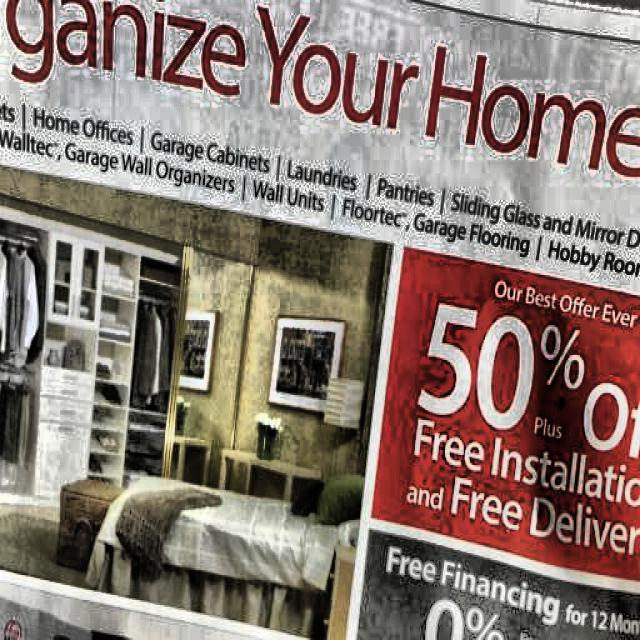paper: (2, 8, 640, 633)
